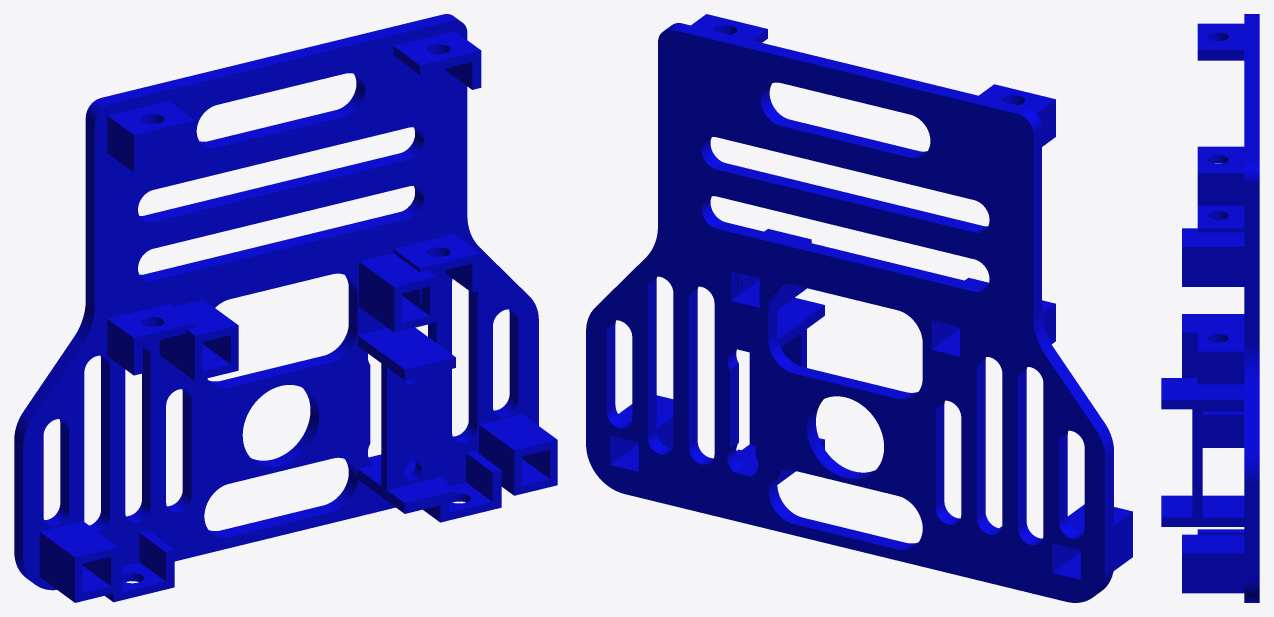
The model's file is Izq.001.dae.
The picture shows the model from 3 angles, left to right: view 1: azimuth 30°, elevation 25°; view 2: azimuth 150°, elevation 25°; view 3: azimuth 270°, elevation 25°; orthographic projection. The views are drawn at different scales.
Parts seen in each view (by area): view 1: tmp_export_Izq.001; view 2: tmp_export_Izq.001; view 3: tmp_export_Izq.001.
Part boxes in pixels (x1,y1,x2,y2): tmp_export_Izq.001: [14, 14, 557, 602]; tmp_export_Izq.001: [586, 14, 1132, 602]; tmp_export_Izq.001: [1161, 14, 1259, 602].
Size of the model in its own units: 0.101 by 0.019 by 0.0885.
